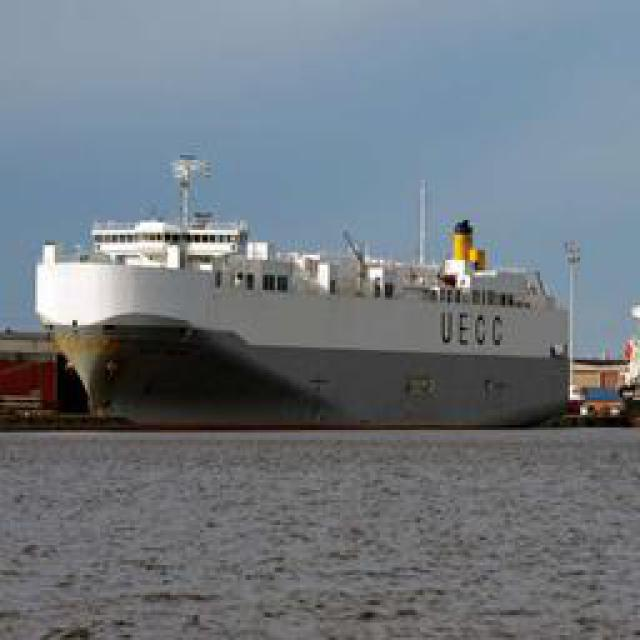Ship: (32, 156, 580, 426)
